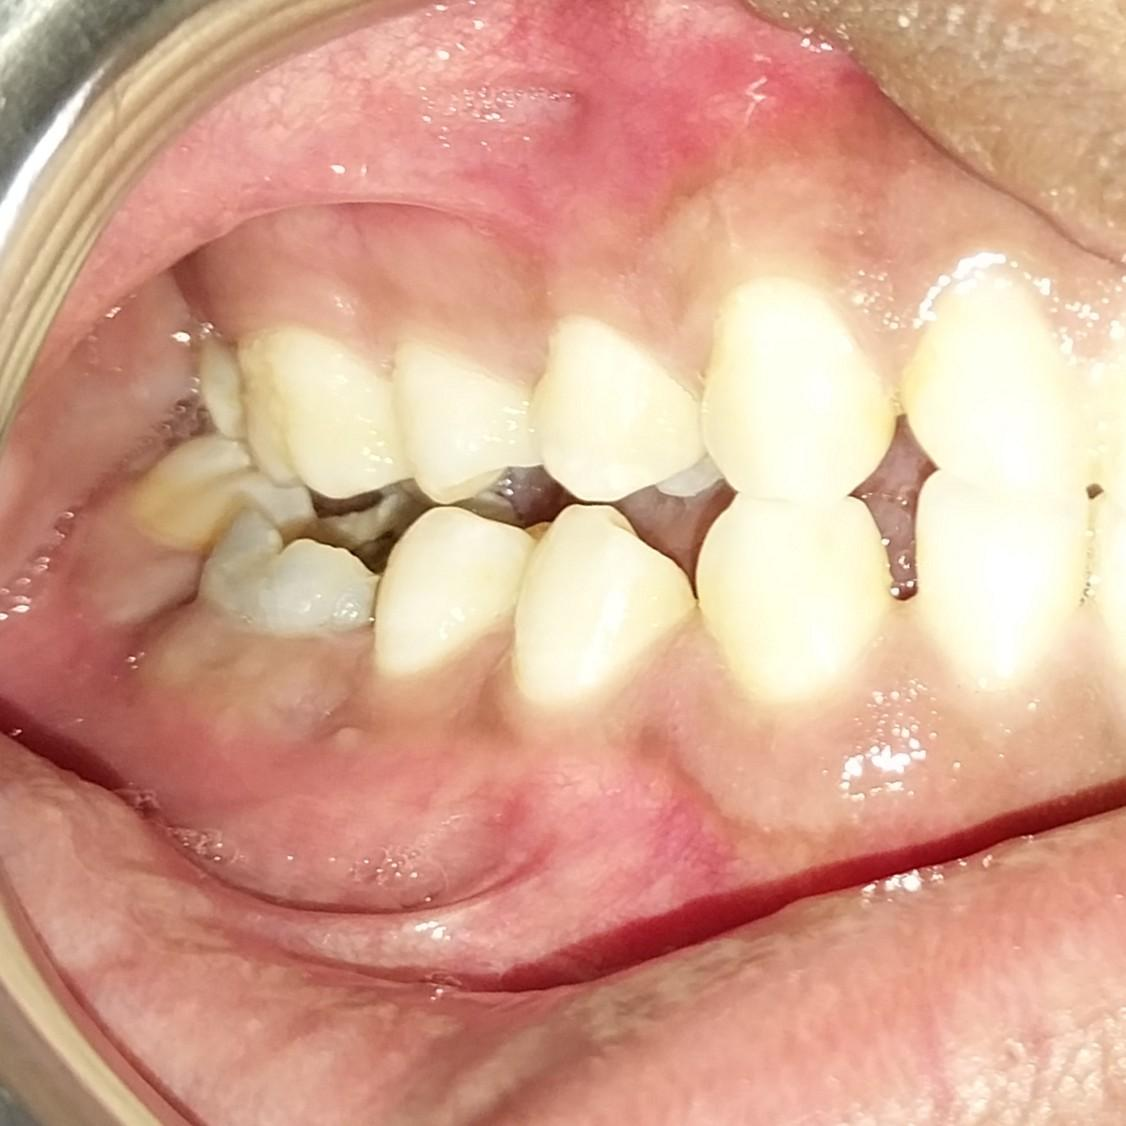D: (182, 493, 411, 643)
